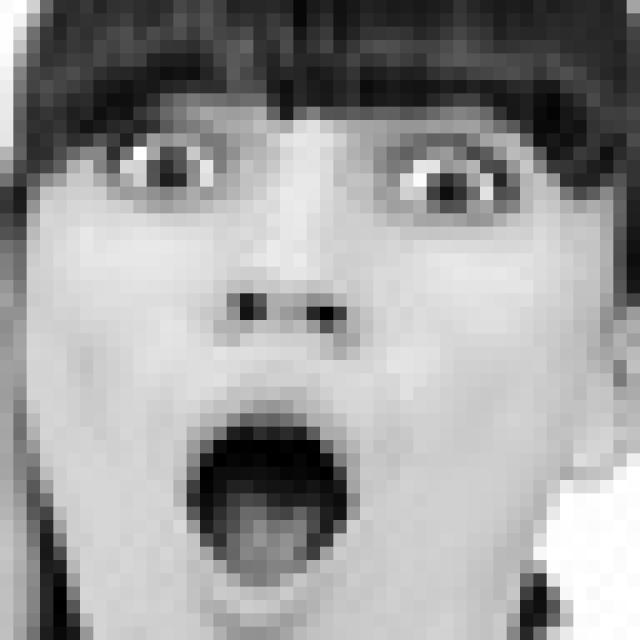surprise: (84, 76, 550, 640)
